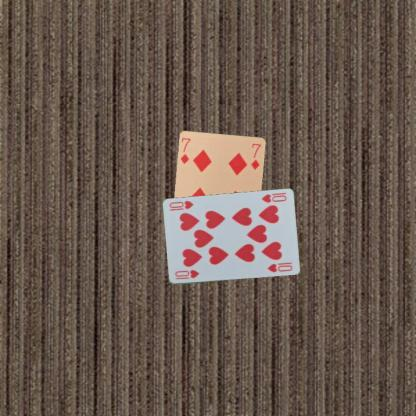10h: (172, 267, 200, 281), (259, 192, 288, 204)
7d: (178, 135, 192, 165)
